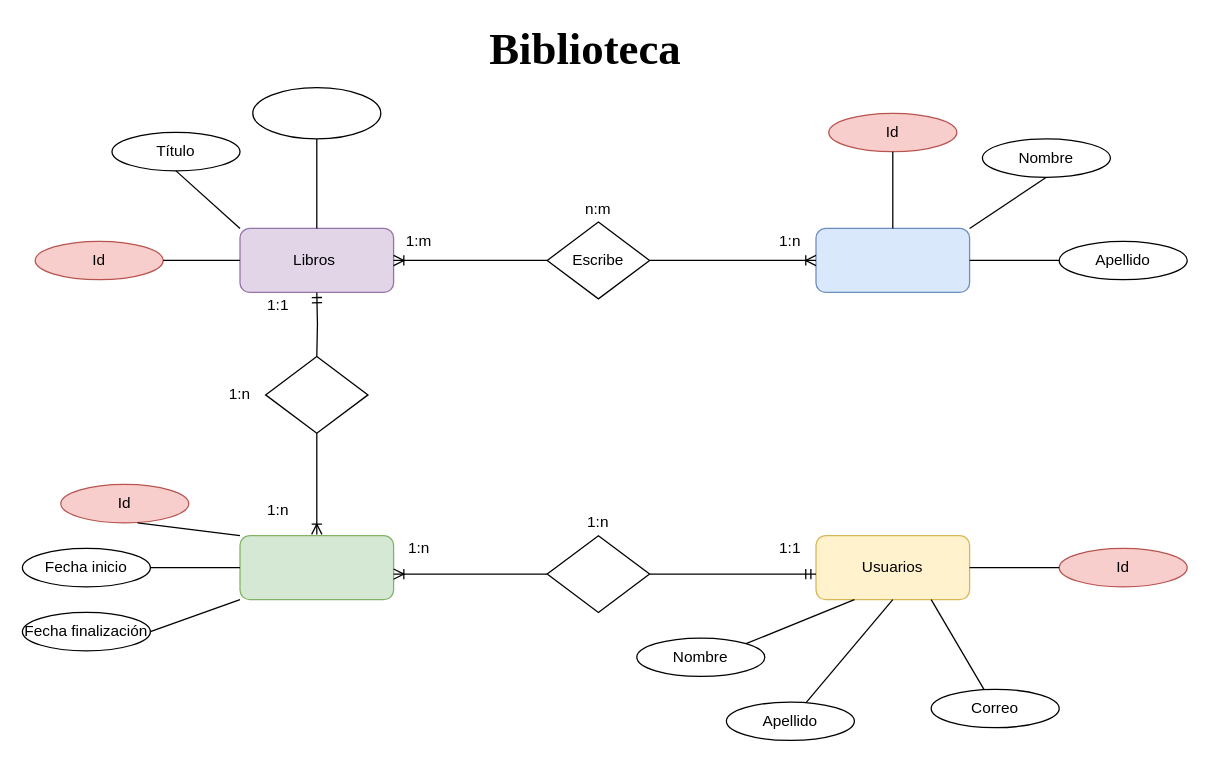
Some shapes in this 1210 by 773 pixel diagram are drawn without their labels. Here are the shapes that lost their labels. From the top down, the centre of each, then its label:
At point 316,112: "Año de publicación".
At point 892,259: "Autores".
At point 316,394: "Contiene".
At point 316,567: "Prestamos".
At point 598,573: "Realiza".
